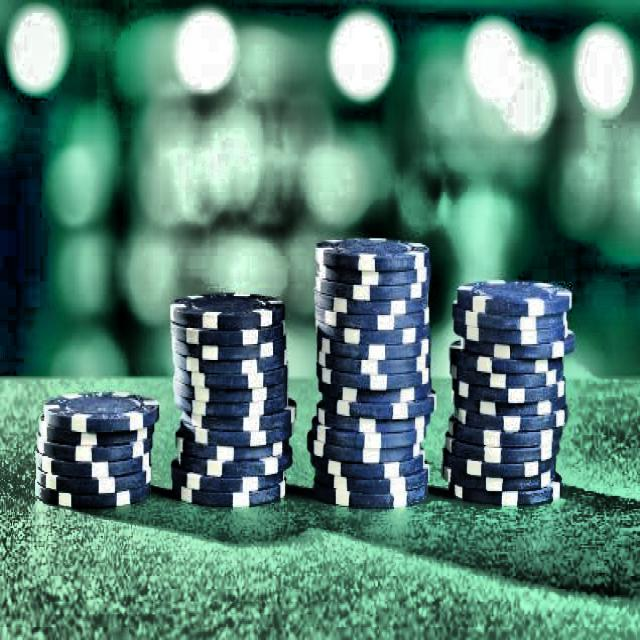Chip: (306, 228, 439, 527), (162, 275, 300, 522), (443, 257, 575, 513), (28, 384, 162, 524)
